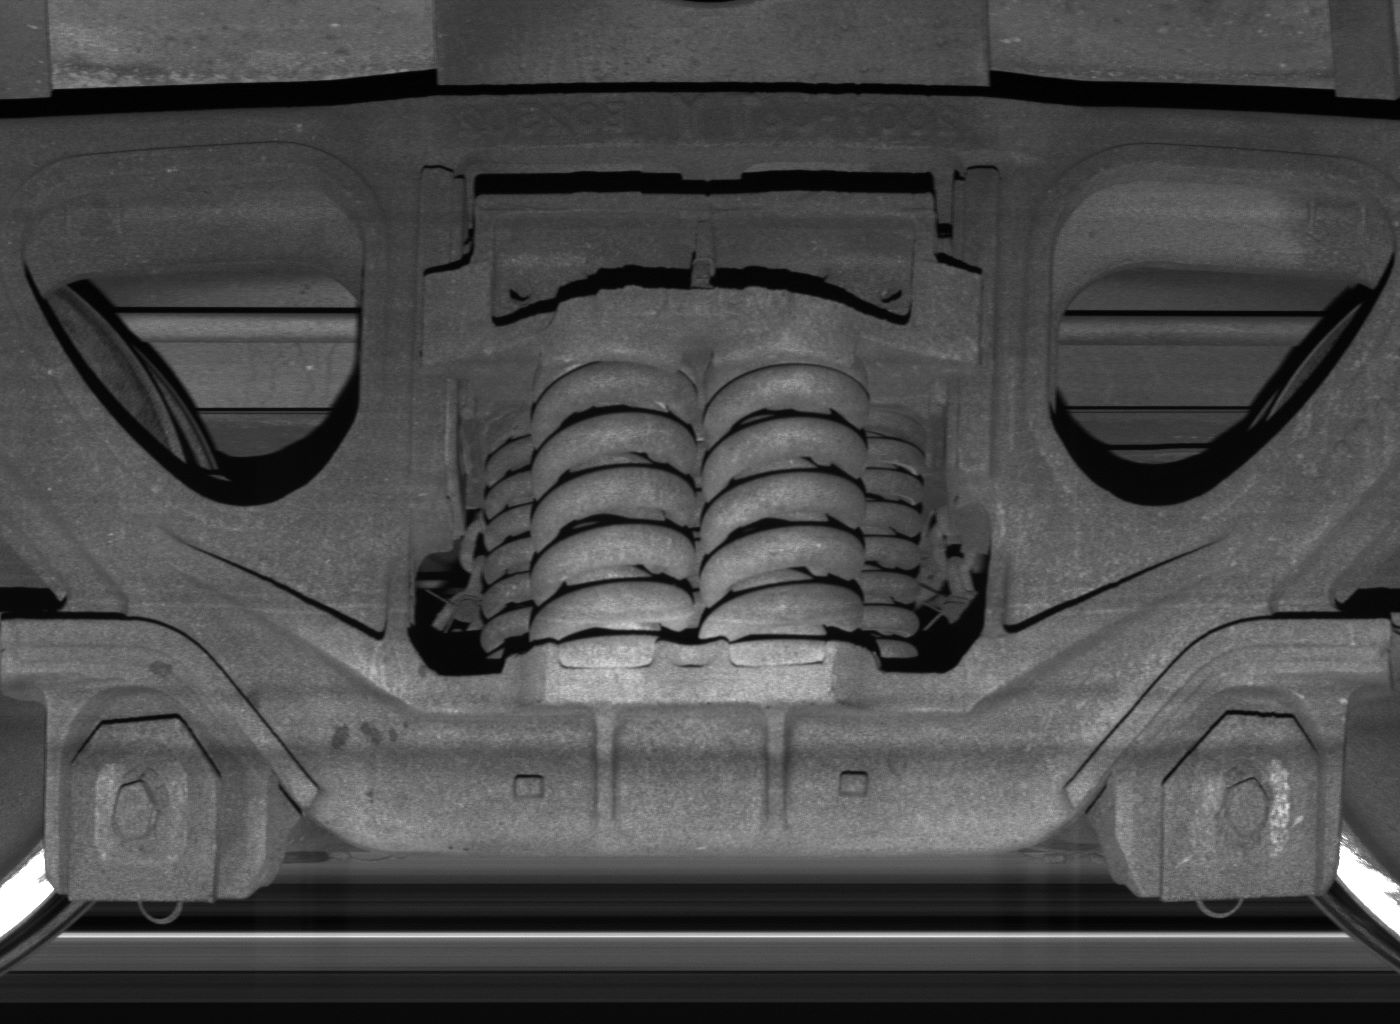normal: (1115, 687, 1346, 906), (46, 685, 265, 903)
